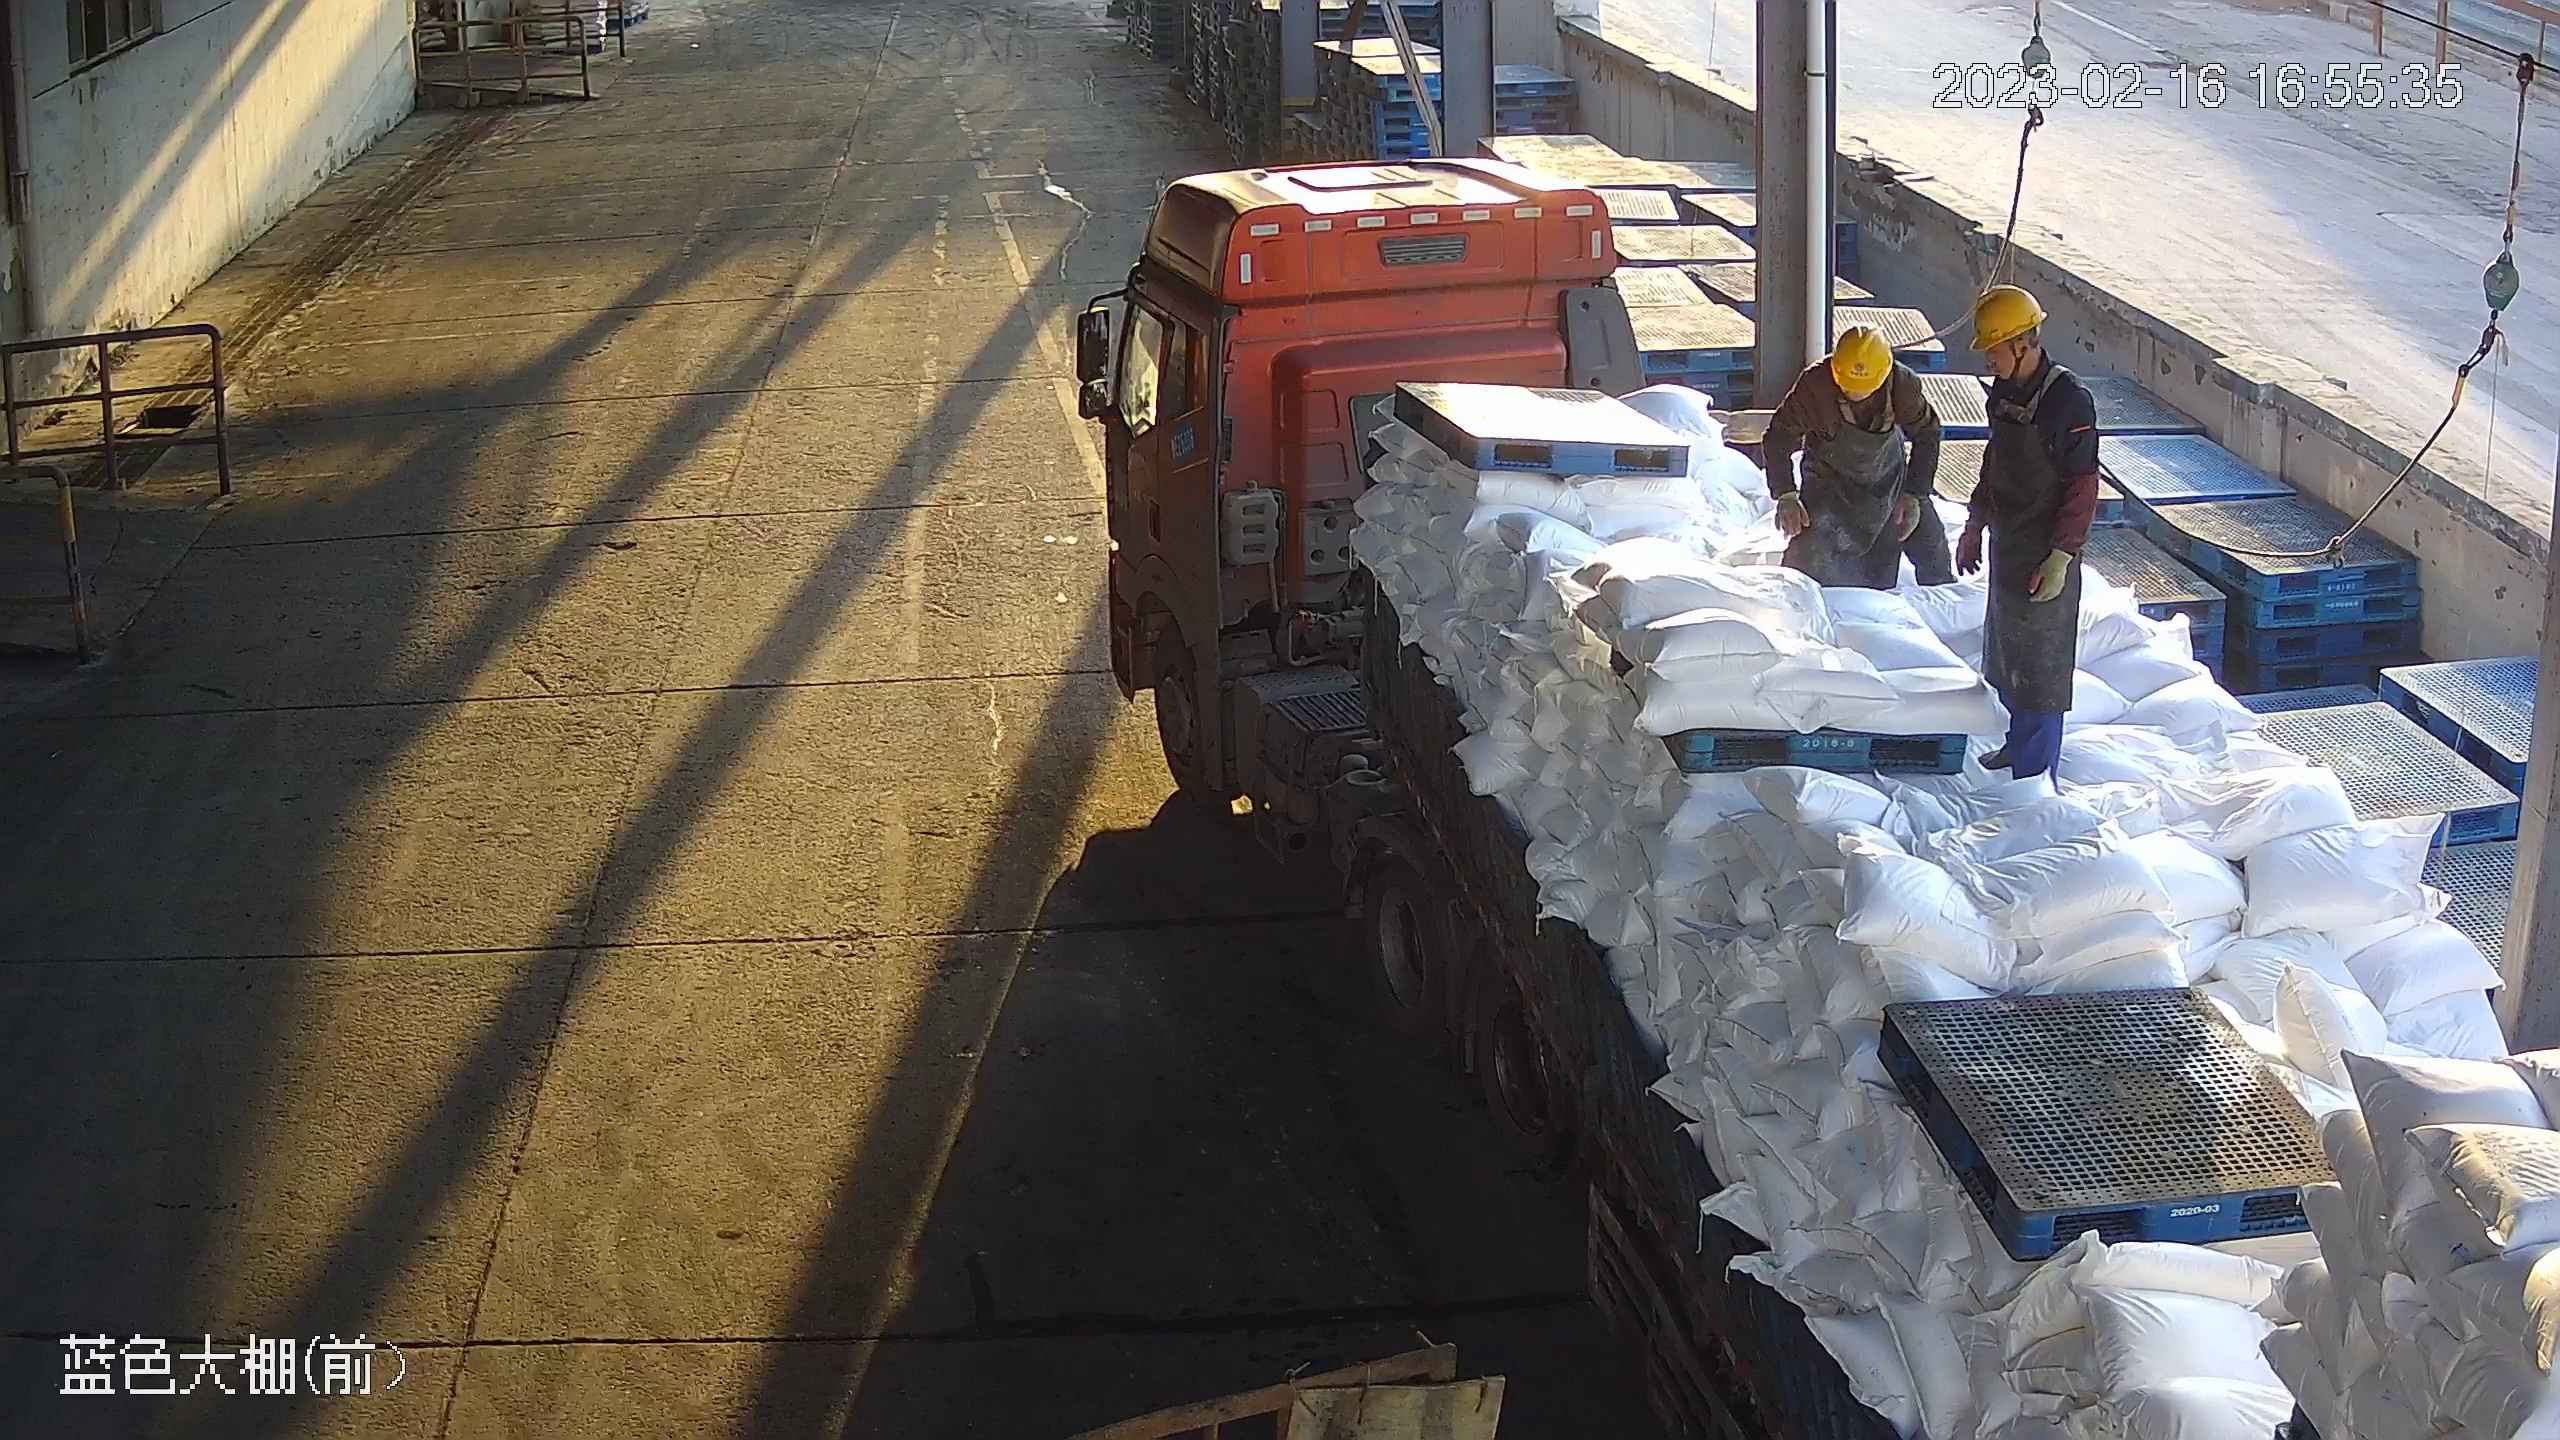belt: (1988, 364, 2064, 429), (1822, 391, 1916, 441)
head: (1757, 329, 1942, 460), (1959, 280, 2098, 440)
helmet: (1961, 280, 2061, 362), (1829, 332, 1888, 403)
people: (1944, 280, 2118, 787), (1757, 325, 1964, 590)
truck: (1079, 164, 2560, 1440)
